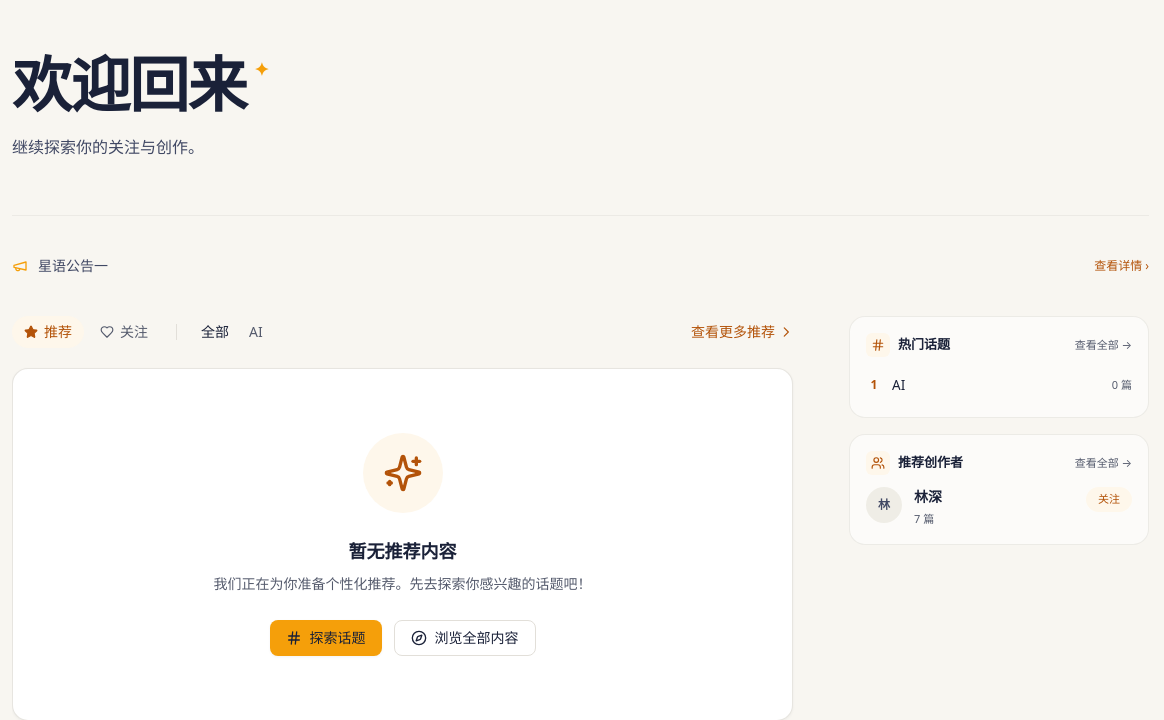
Test case: home (authenticated) › renders a follow button that flips only after the request succeeds
Expected: the heading "推荐创作者" is shown, x1=866 y1=451 x2=963 y2=475
Click the button "关注" at coordinates (1109, 499), box x1=1086 y1=487 x2=1132 y2=512
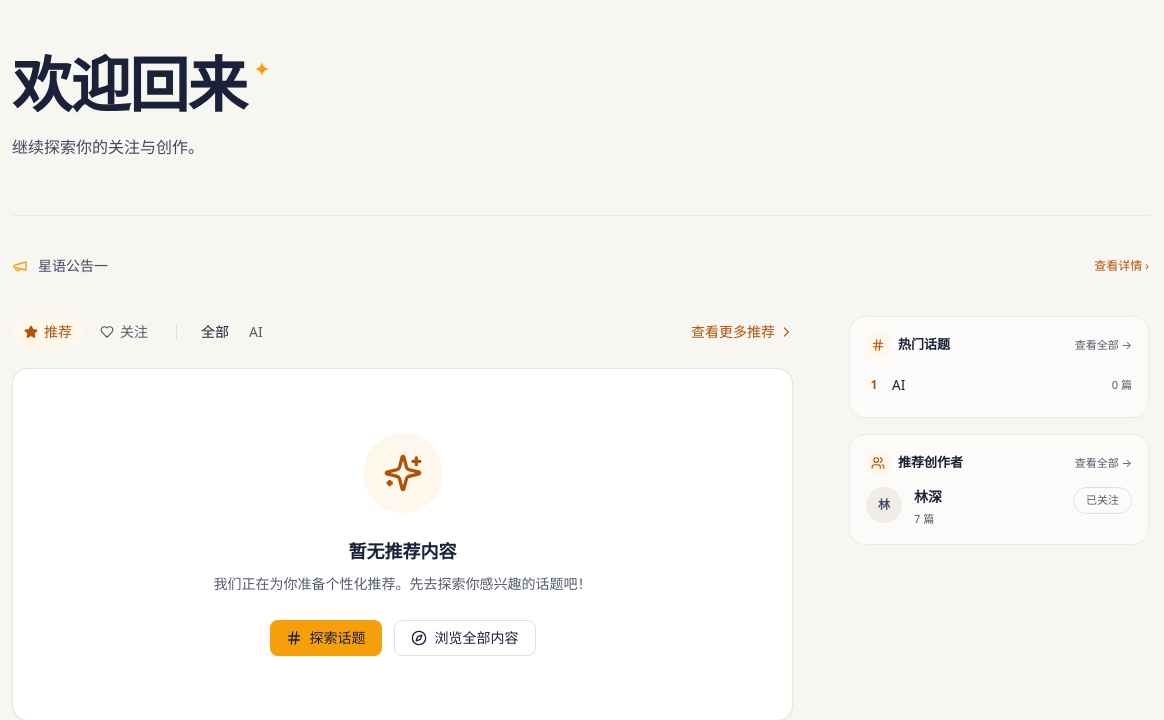
Expected: the button "已关注" is shown, x1=1073 y1=487 x2=1132 y2=514
